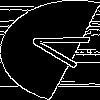V: (25, 25, 100, 72)
